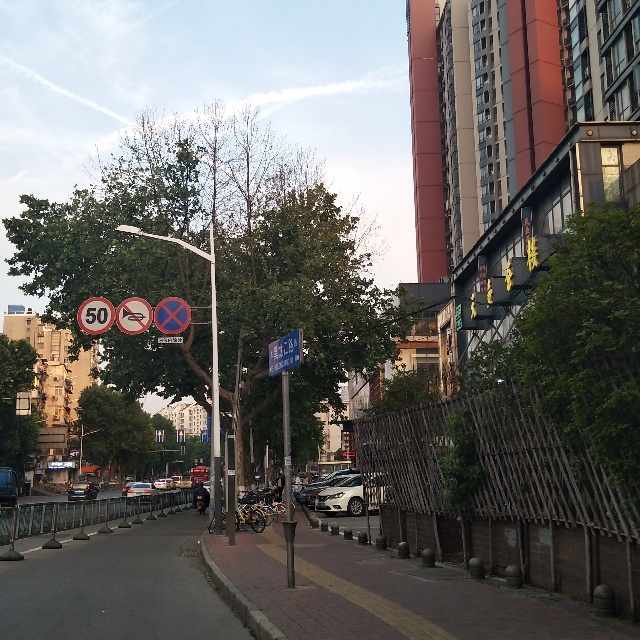nohonk: (114, 297, 153, 332)
stop: (156, 298, 191, 336)
